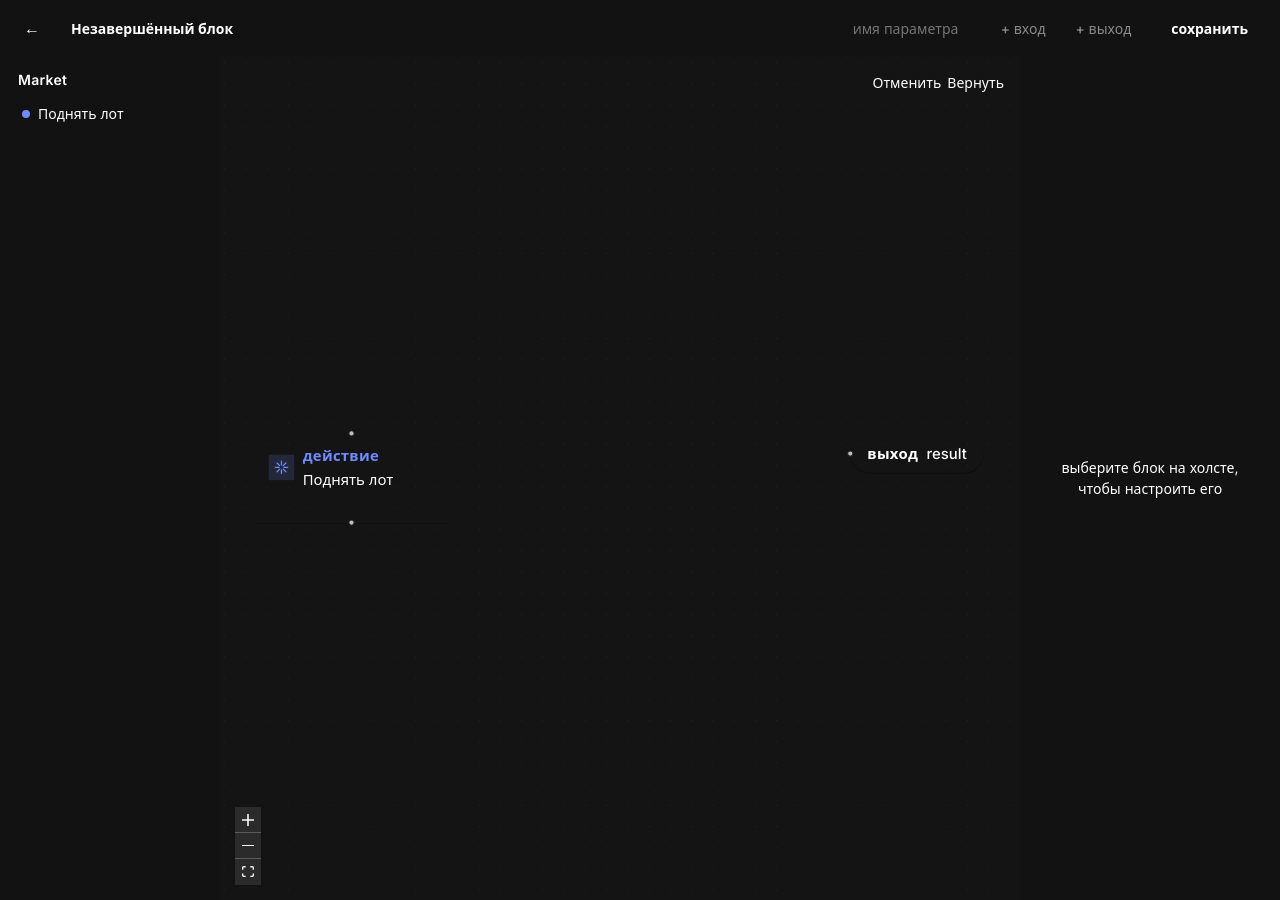
it: AuthoringMode › blocks save when a loaded output marker has no producing edge
Expected: the field showing "Незавершённый блок" is shown, [60,11,292,45]
Click the button "сохранить".
click(1210, 28)  # box [1155,11,1264,45]
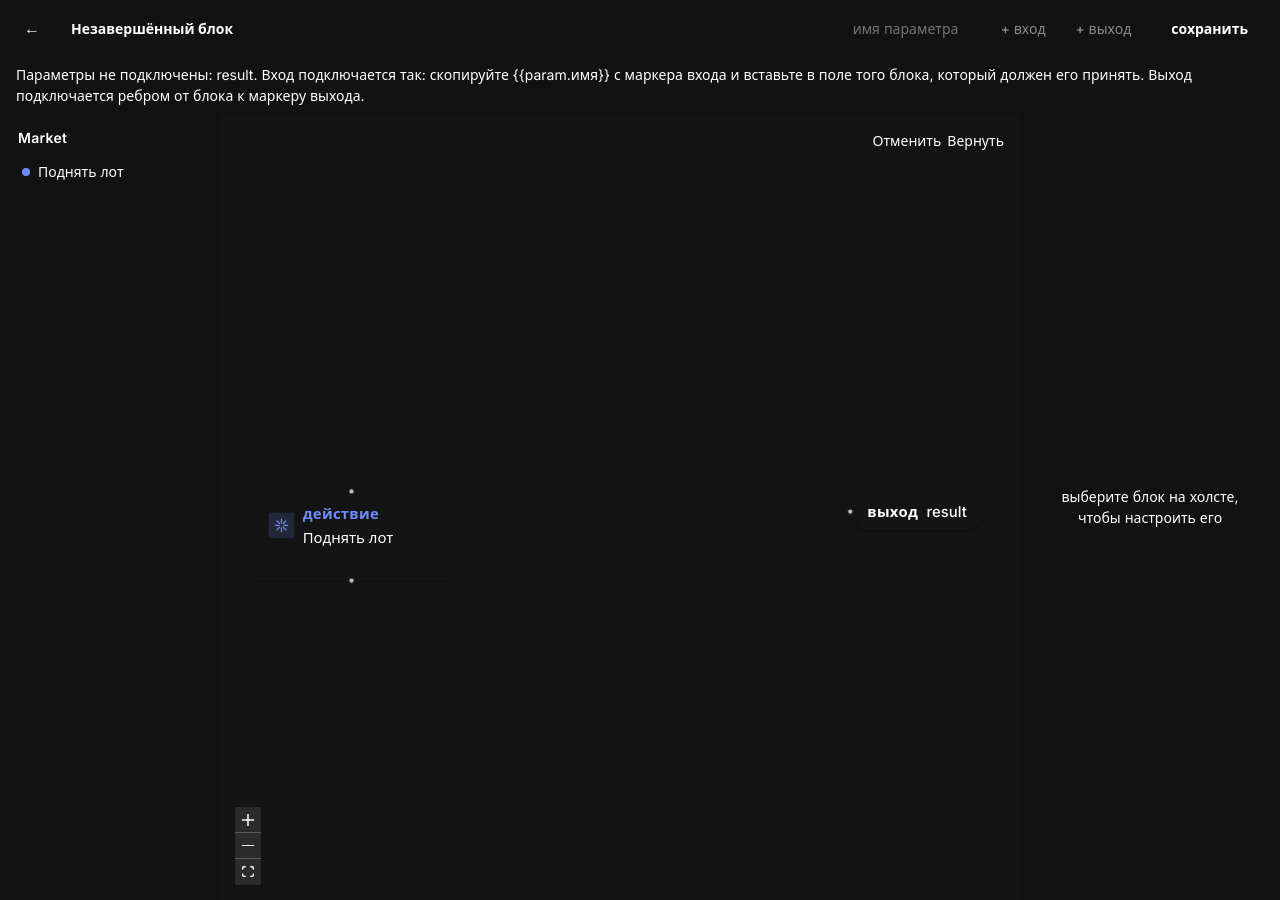
Now the text "Параметры не подключены: result" is shown, box [16,66,1192,104]
